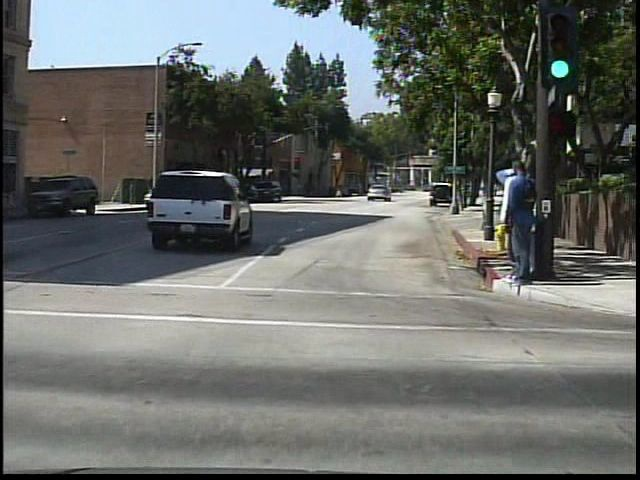person: (487, 163, 524, 290), (503, 155, 535, 290), (334, 182, 345, 199)
